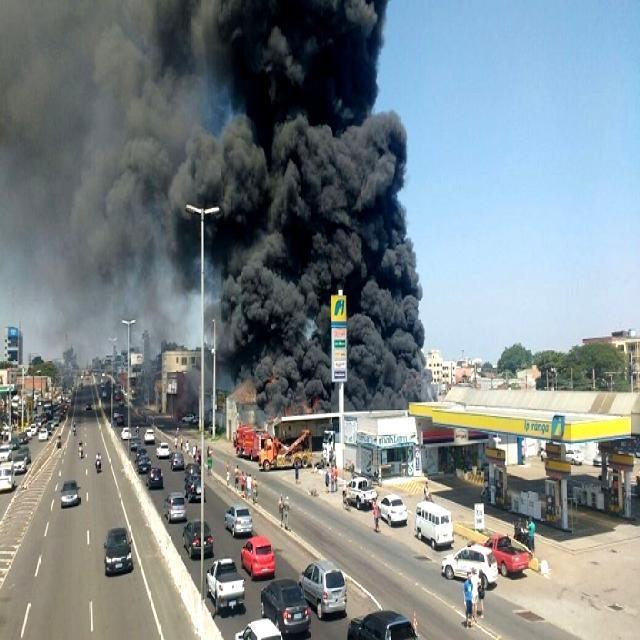Smoke: (0, 0, 447, 415)
